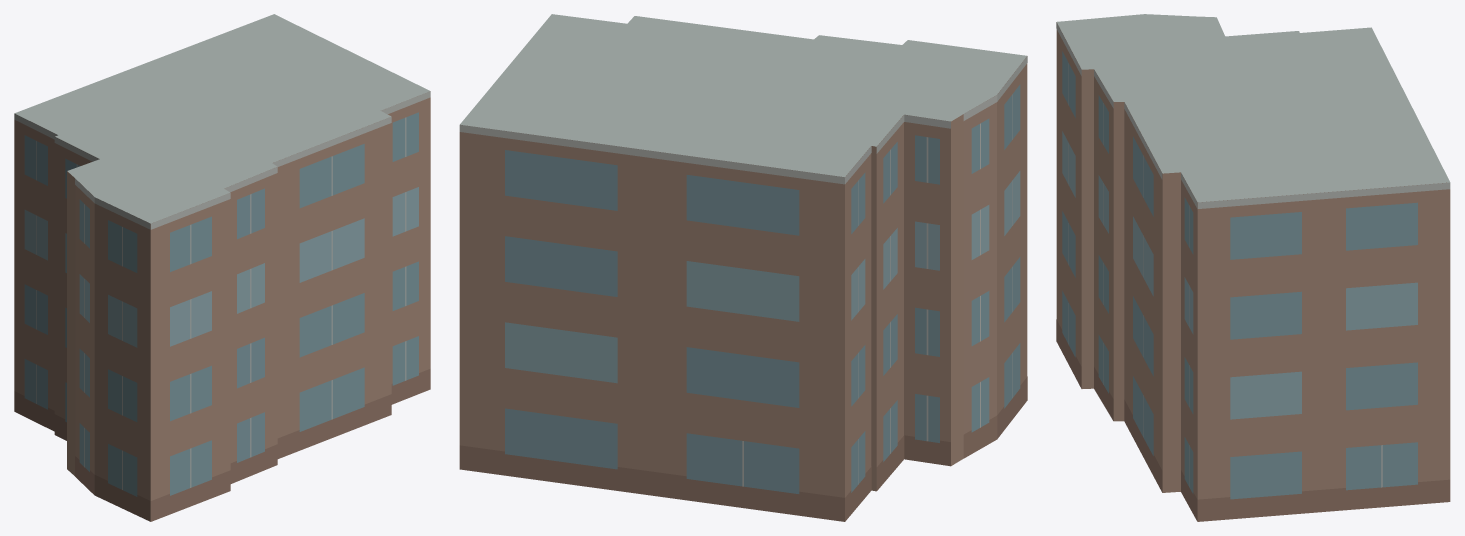
File: survey-upis-32712817.glb
The picture shows the model from 3 angles, left to right: view 1: azimuth 30°, elevation 25°; view 2: azimuth 150°, elevation 25°; view 3: azimuth 270°, elevation 25°; orthographic projection. The views are drawn at different scales.
Parts seen in each view (by area): view 1: survey-upis-32712817.tmp; view 2: survey-upis-32712817.tmp; view 3: survey-upis-32712817.tmp.
Part boxes in pixels (bbox=[...]): survey-upis-32712817.tmp: bbox=[14, 14, 430, 521]; survey-upis-32712817.tmp: bbox=[459, 14, 1027, 521]; survey-upis-32712817.tmp: bbox=[1056, 14, 1450, 521].
Size of the model in its own units: 14.69 by 11.6 by 12.97.
